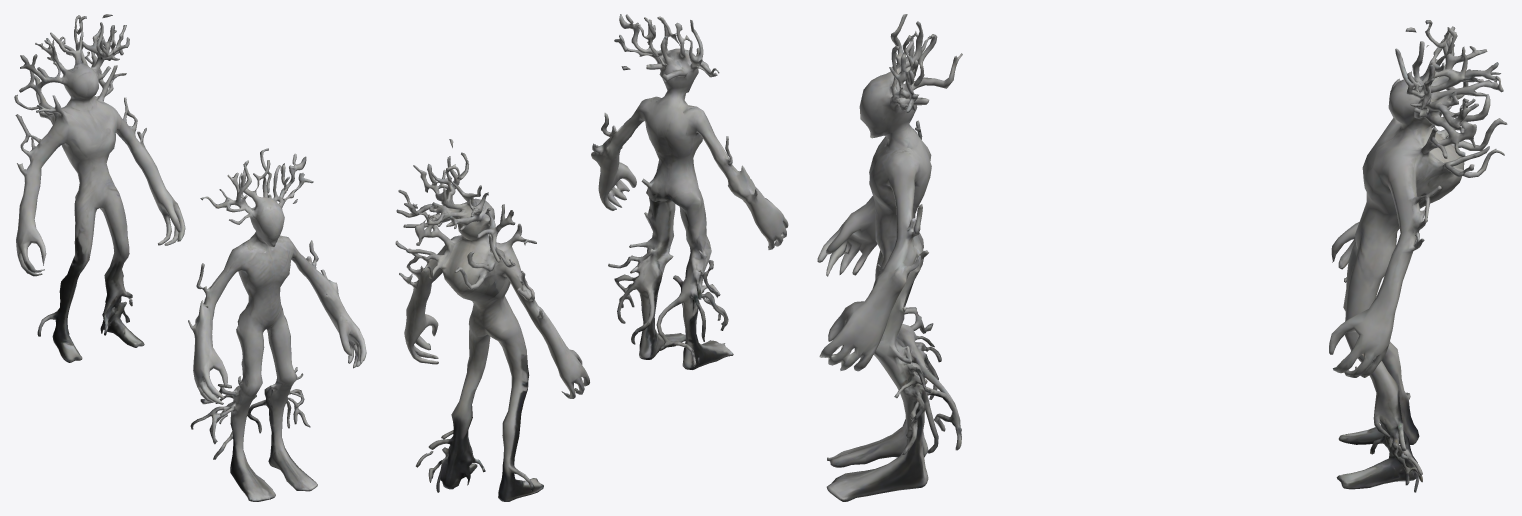
The model's file is shadow_stalker.glb.
The picture shows the model from 3 angles, left to right: view 1: azimuth 30°, elevation 25°; view 2: azimuth 150°, elevation 25°; view 3: azimuth 270°, elevation 25°; orthographic projection. The views are drawn at different scales.
Bounding box in the file's own units: 0.7732 × 1.49 × 1.99.
Materials: 1 (1 with a texture image).
